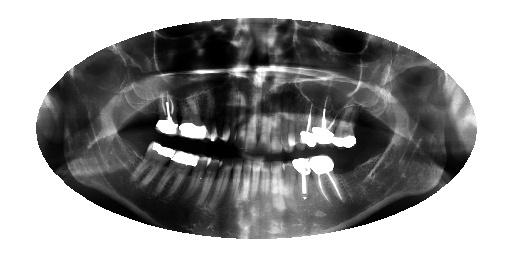Cavity: (212, 157, 235, 208), (234, 96, 247, 150)
Fillings: (131, 141, 176, 186), (157, 148, 200, 194), (180, 93, 208, 140), (333, 106, 355, 148)
Implant: (310, 155, 343, 202), (311, 94, 340, 145), (292, 157, 315, 209), (157, 90, 180, 136), (301, 101, 315, 147)
